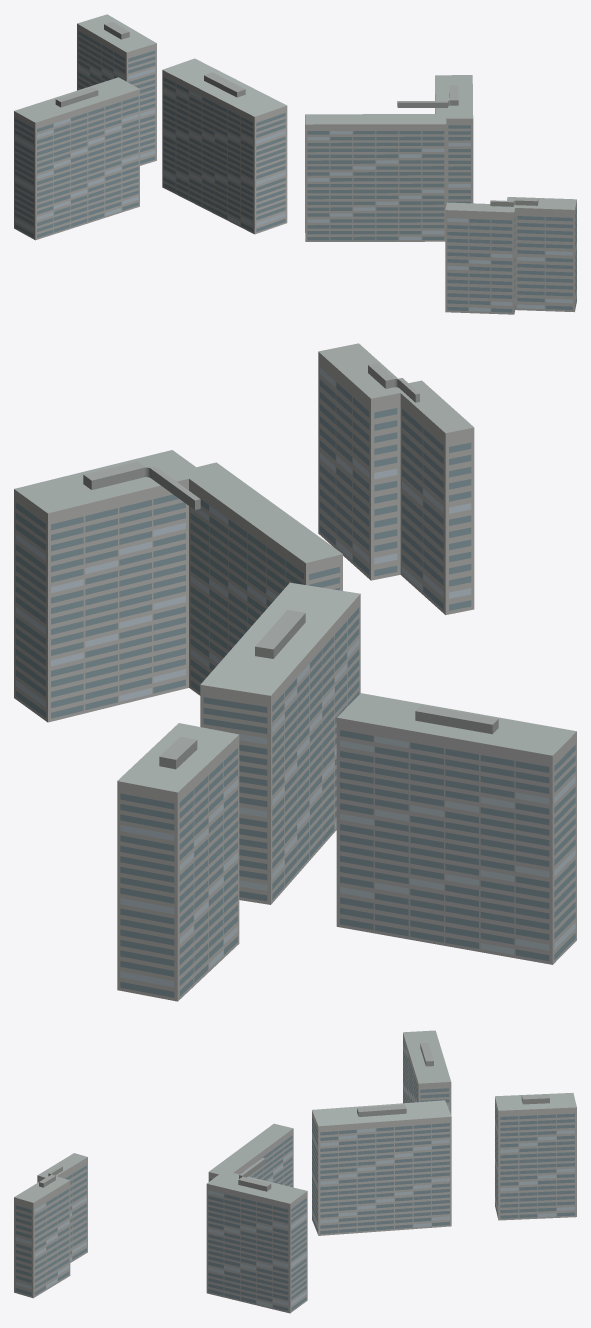
File: apt-a15601105.glb
The picture shows the model from 3 angles, top to bottom: view 1: azimuth 30°, elevation 25°; view 2: azimuth 150°, elevation 25°; view 3: azimuth 270°, elevation 25°; orthographic projection. The views are drawn at different scales.
Parts seen in each view (by area): view 1: apt-a15601105; view 2: apt-a15601105; view 3: apt-a15601105.
Part boxes in pixels (left/top/right/bottom): apt-a15601105: left=14, top=14, right=576, bottom=314; apt-a15601105: left=14, top=343, right=576, bottom=1001; apt-a15601105: left=14, top=1030, right=576, bottom=1313.
Bounding box in the file's own units: 178 × 55 × 245.
